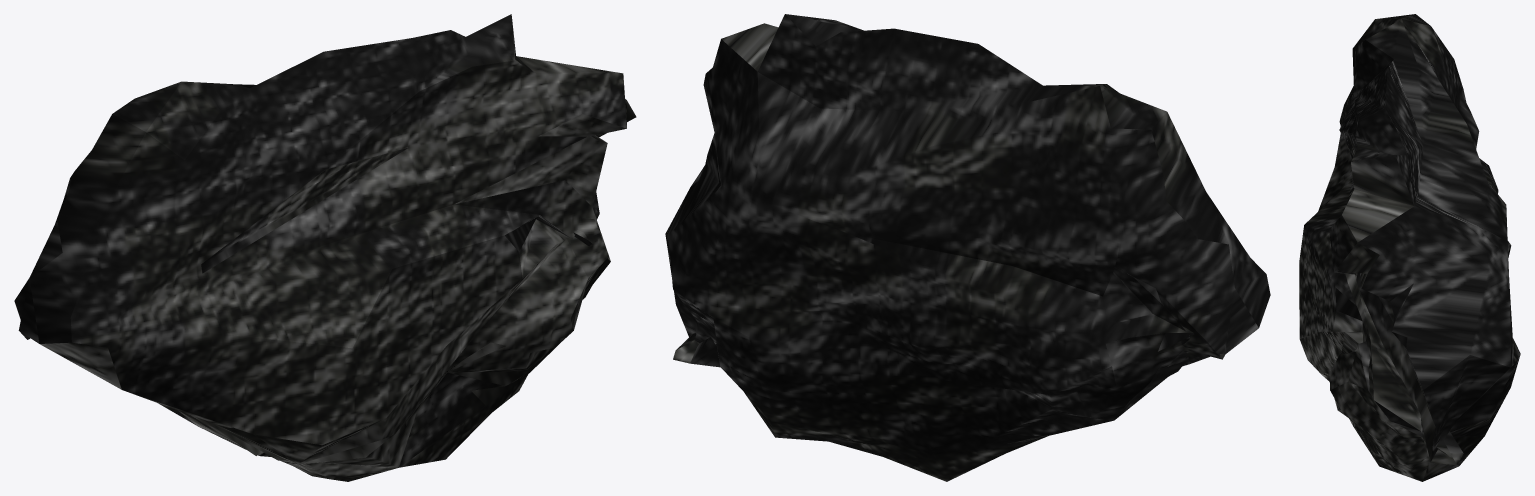
Rendered from Rock_Asset_21.fbx.
3 renders of one model, left to right at view 1: azimuth 30°, elevation 25°; view 2: azimuth 150°, elevation 25°; view 3: azimuth 270°, elevation 25°, orthographic. The views are drawn at different scales.
Parts seen in each view (by area): view 1: Rock_Asset; view 2: Rock_Asset; view 3: Rock_Asset.
Boxes of the visible parts, box(x1,y1,x2,y2) form: Rock_Asset: box(14, 14, 636, 481); Rock_Asset: box(665, 14, 1270, 481); Rock_Asset: box(1299, 14, 1520, 481).
Size of the model in its own units: 2.27 by 1.63 by 0.9172.
Materials: 1 (1 with a texture image).
